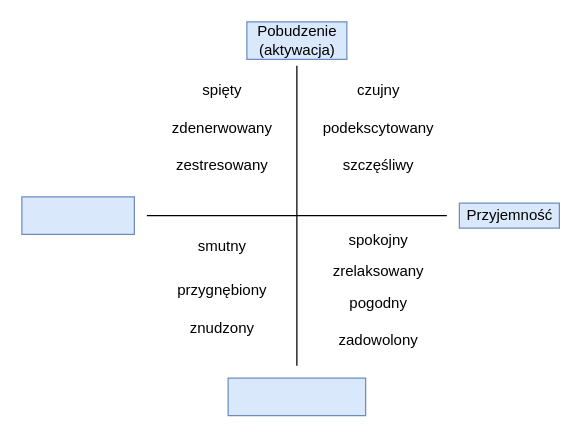
Some shapes in this 581 by 438 pixel diagram are drawn without their labels. Here are the shapes that lost their labels. From the top down, the centre of each, then its label:
point 77,215: Brak przyjemności
point 296,396: Brak pobudzenia (deaktywacja)
